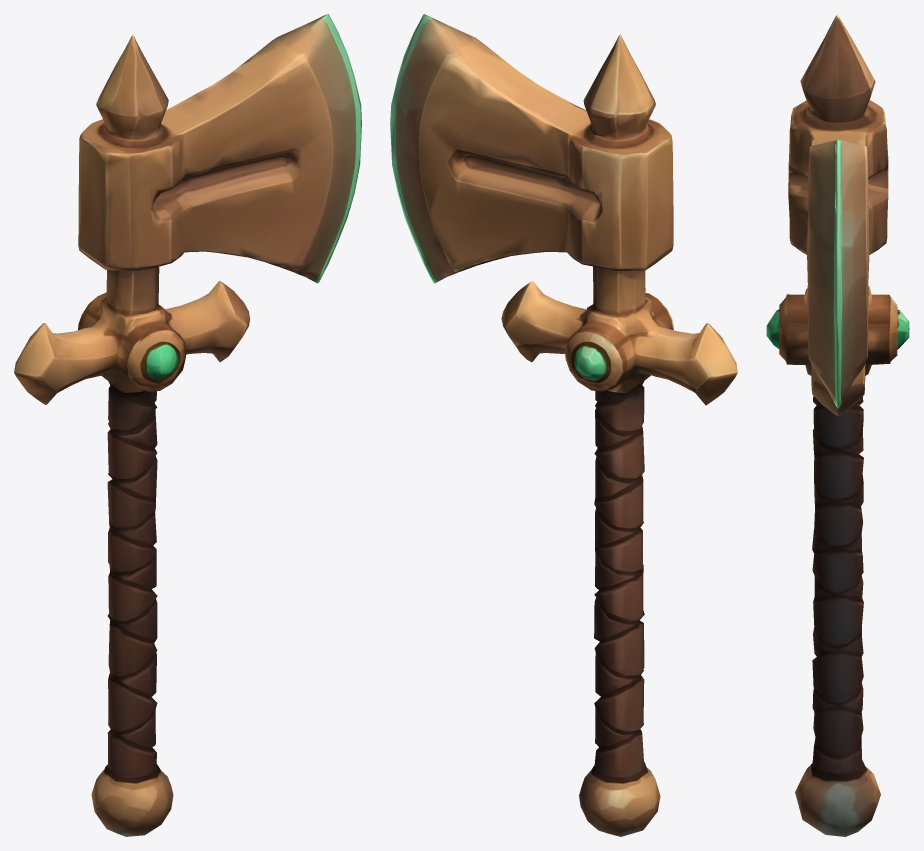
File: w_bronze--axe.glb
3 views of the same model, side by side, from view 1: azimuth 30°, elevation 25°; view 2: azimuth 150°, elevation 25°; view 3: azimuth 270°, elevation 25° (orthographic). The views are drawn at different scales.
Parts seen in each view (by area): view 1: Weapon; view 2: Weapon; view 3: Weapon.
Part boxes in pixels (<box>): Weapon: <box>14,14,361,836</box>; Weapon: <box>390,14,737,836</box>; Weapon: <box>766,14,909,836</box>.
Bounding box in the file's own units: 0.4476 × 0.9846 × 0.1556.
Materials: 1 (1 with a texture image).
